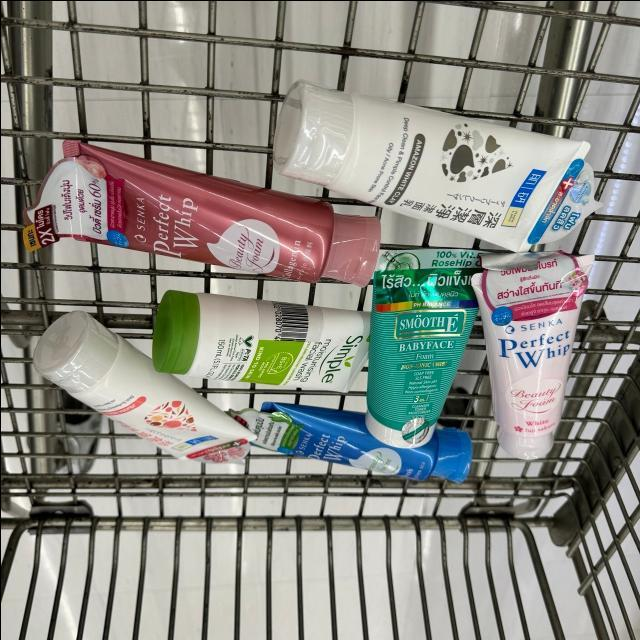Squeeze Tube: (270, 86, 599, 255), (63, 143, 383, 291), (32, 313, 257, 466), (473, 258, 591, 463), (151, 289, 372, 391), (367, 250, 478, 450), (254, 402, 473, 486)
